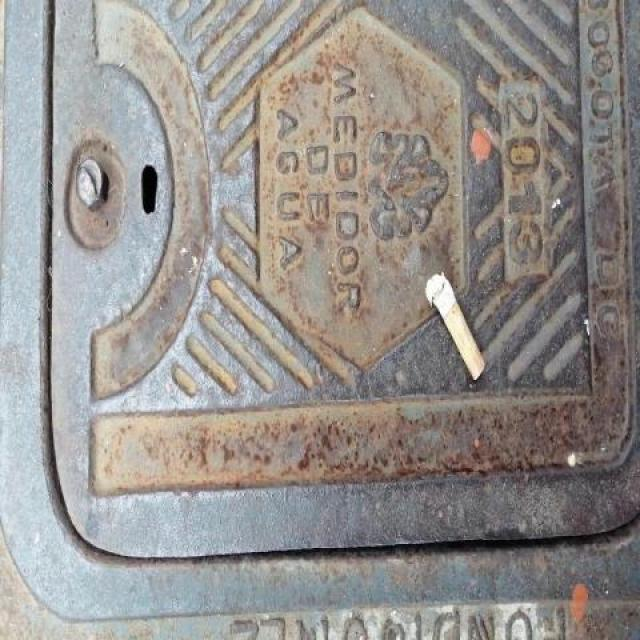non-organic waste: (419, 267, 489, 384)
